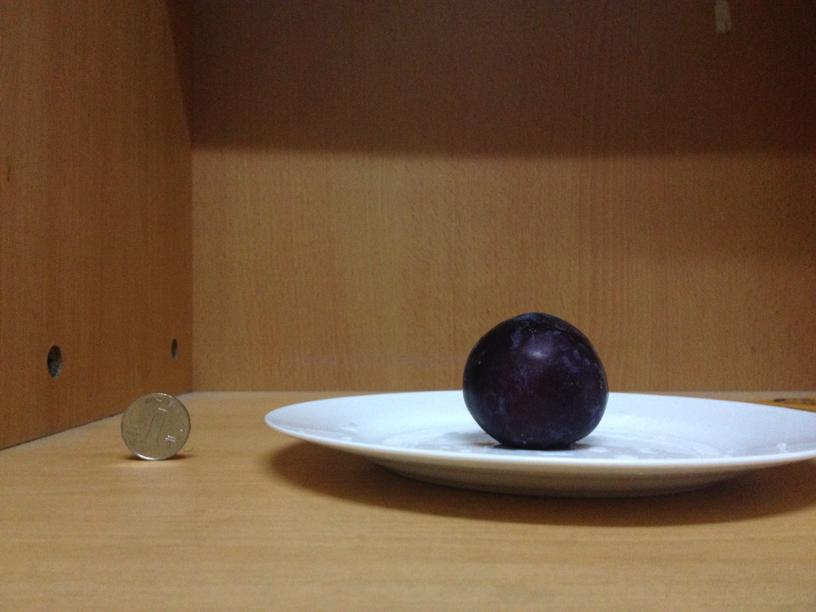coin: (119, 394, 191, 462)
plum: (453, 312, 607, 448)
